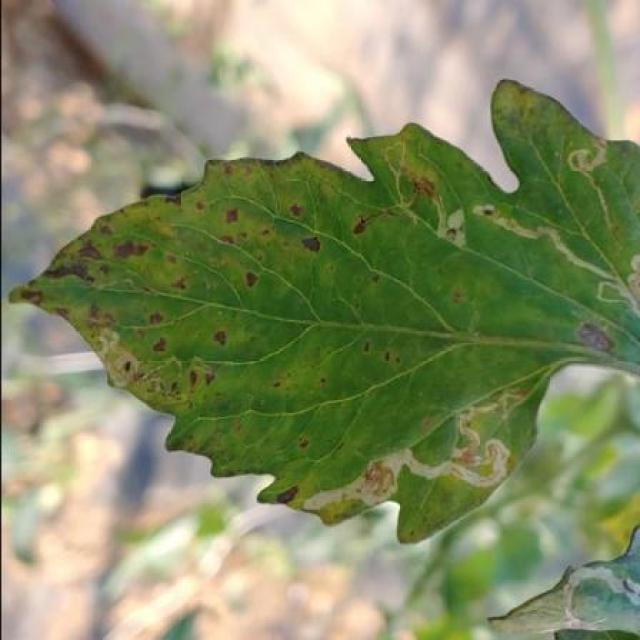Leaf Miner: (4, 77, 640, 547)
